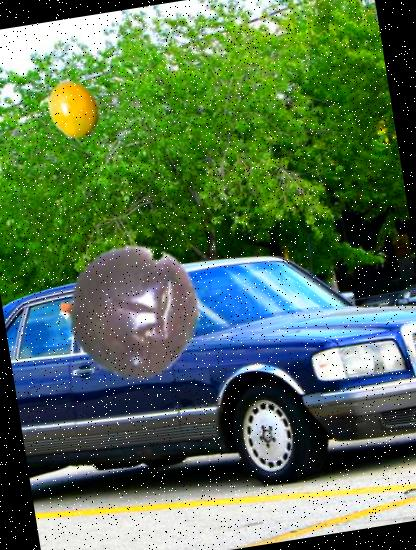Maracuja: (39, 76, 110, 146)
Passion: (51, 233, 211, 392)
